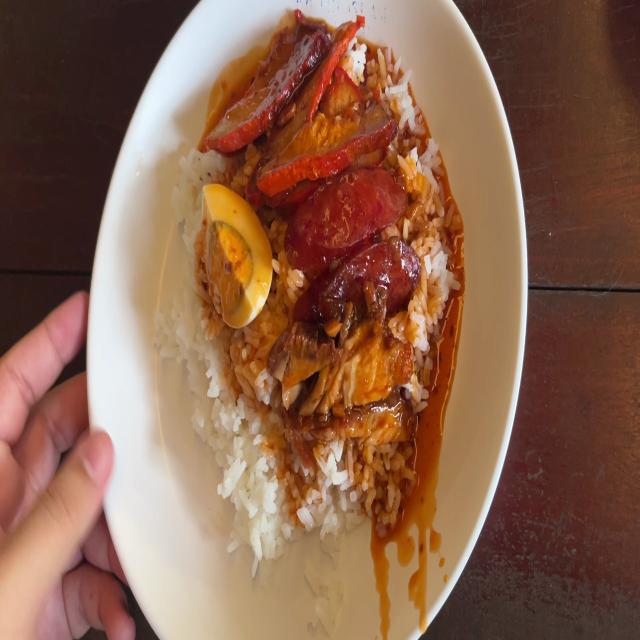red_pork_and_crispy_pork: (206, 193, 269, 315)
stir_fried_basil: (289, 173, 417, 320)
